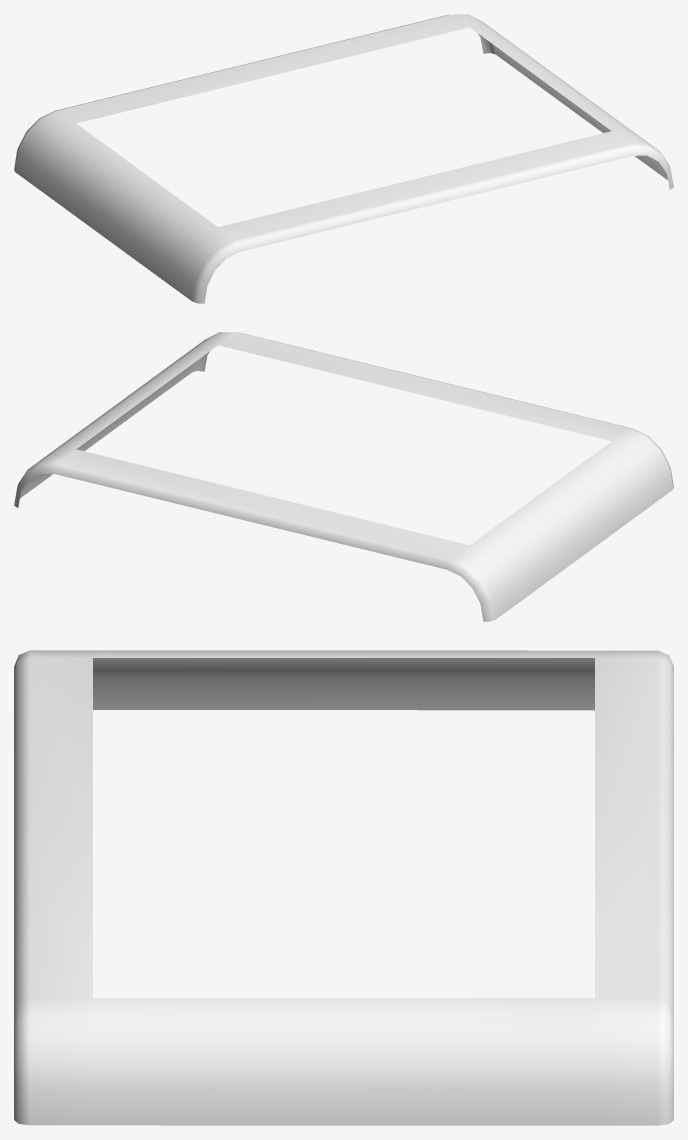
Rendered from Chest_UpperPaint.fbx.
3 views of the same model, one above another, from view 1: azimuth 30°, elevation 25°; view 2: azimuth 150°, elevation 25°; view 3: azimuth 270°, elevation 25° (orthographic). The views are drawn at different scales.
Visible parts, largest first — view 1: Chest_UpperPaint; view 2: Chest_UpperPaint; view 3: Chest_UpperPaint.
Boxes of the visible parts, left/top/right/bottom form: Chest_UpperPaint: left=14, top=14, right=673, bottom=303; Chest_UpperPaint: left=14, top=332, right=673, bottom=621; Chest_UpperPaint: left=14, top=650, right=673, bottom=1125.
Size of the model in its own units: 46.39 by 4.76 by 31.15.
